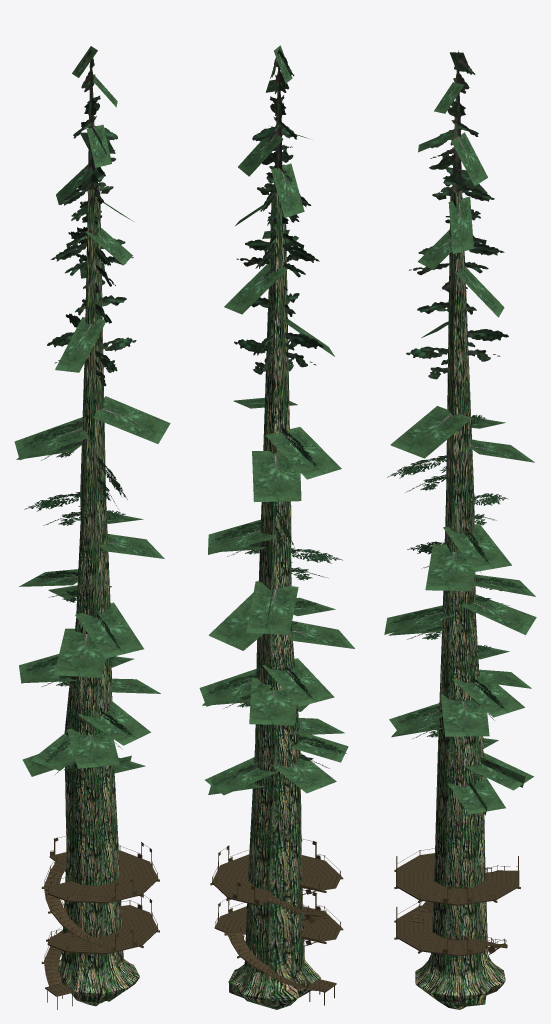
File: thm_endr_village_tree_s01_l0.fbx
The picture shows the model from 3 angles, left to right: view 1: azimuth 30°, elevation 25°; view 2: azimuth 150°, elevation 25°; view 3: azimuth 270°, elevation 25°; orthographic projection.
Visible parts, largest first — view 1: mesh_node; view 2: mesh_node; view 3: mesh_node.
Part boxes in pixels (box(x1,y1,x2,y2)): mesh_node: box(14, 46, 170, 1009); mesh_node: box(199, 45, 354, 1009); mesh_node: box(384, 50, 536, 1009).
Size of the model in its own units: 26.94 by 191 by 27.25.
